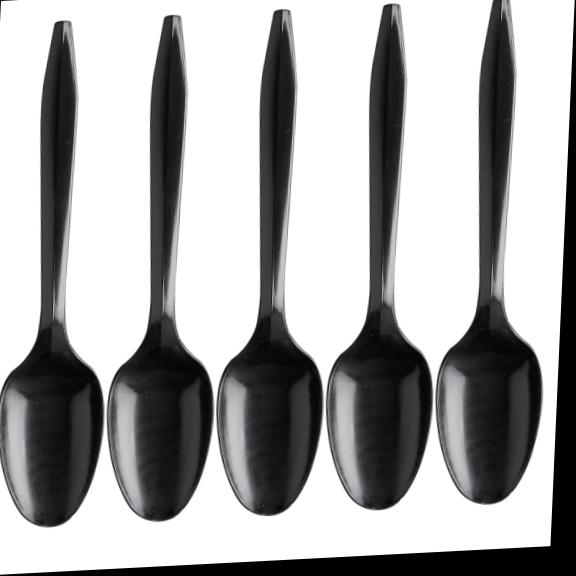Plastik: (107, 15, 212, 520), (326, 4, 431, 508), (436, 0, 541, 503), (217, 9, 321, 514), (0, 21, 103, 525)
